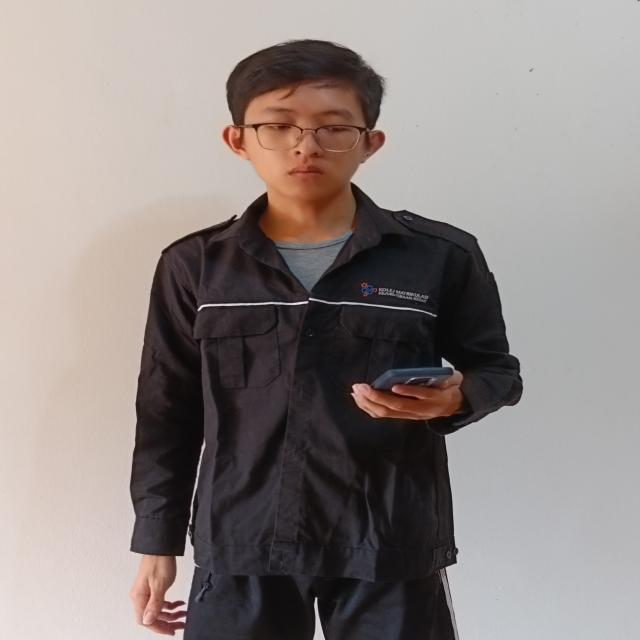person_with_labcoat: (131, 40, 522, 640)
